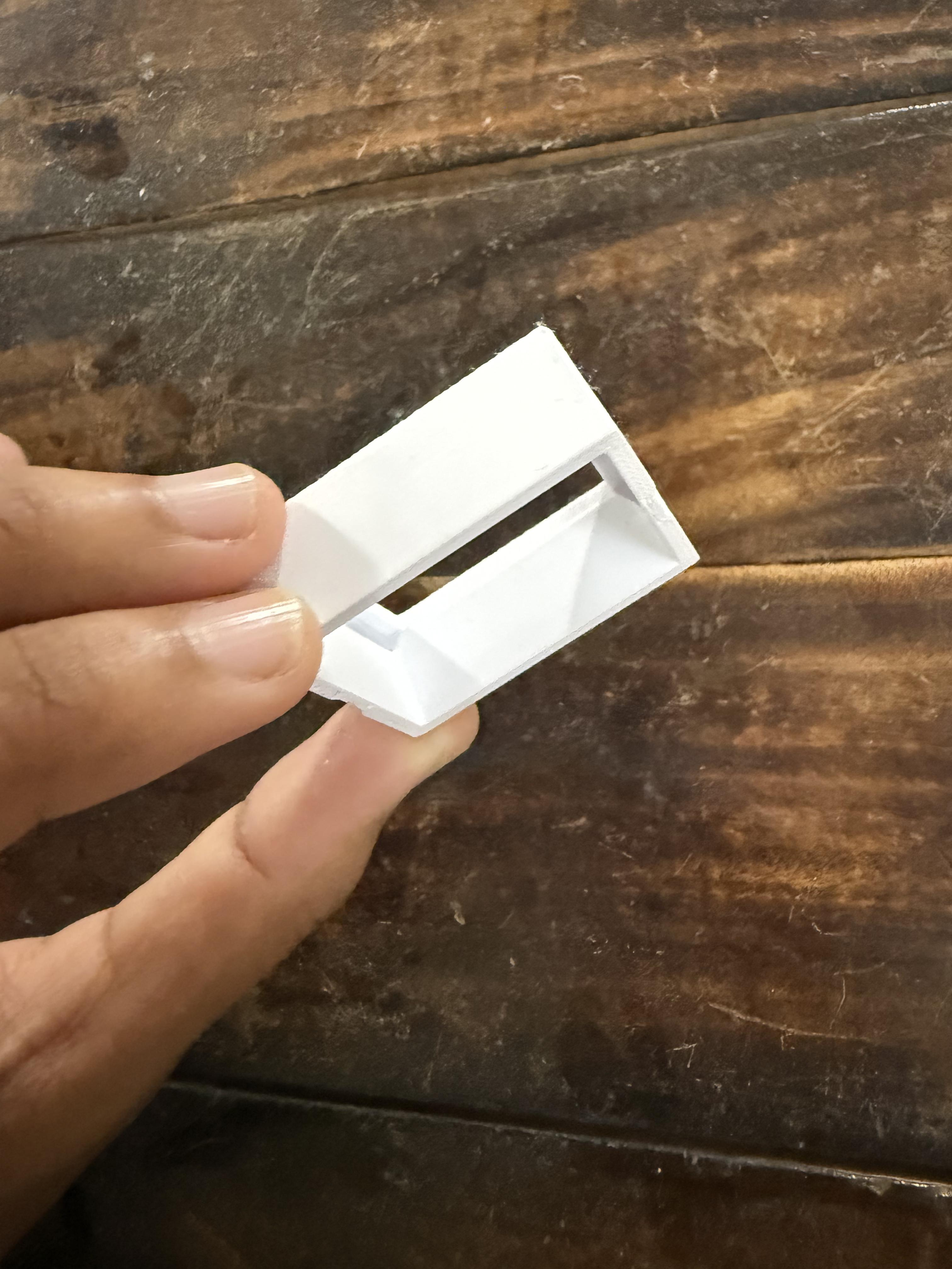enclosure: (276, 324, 700, 738)
